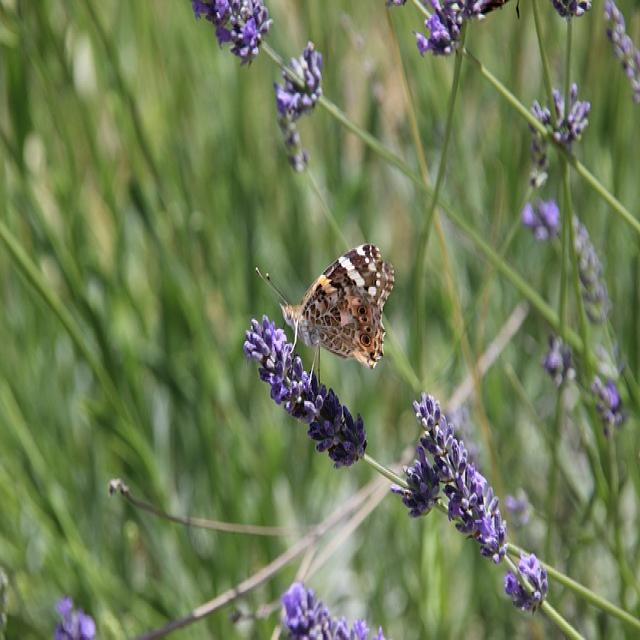butterfly: (284, 245, 395, 370)
